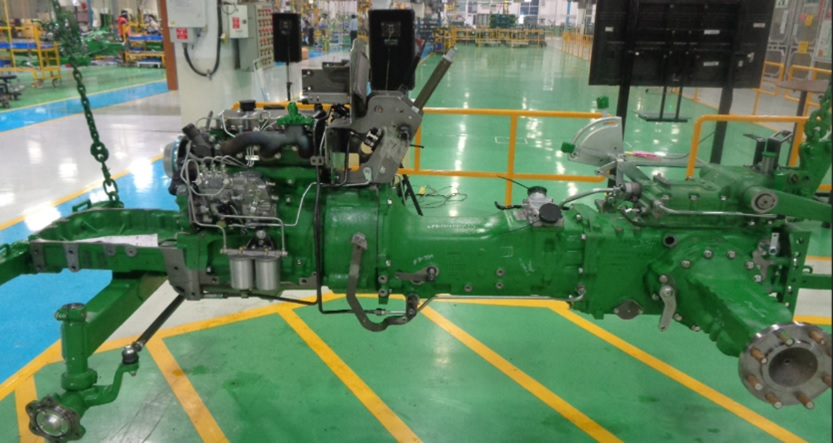engine: (6, 31, 829, 435)
